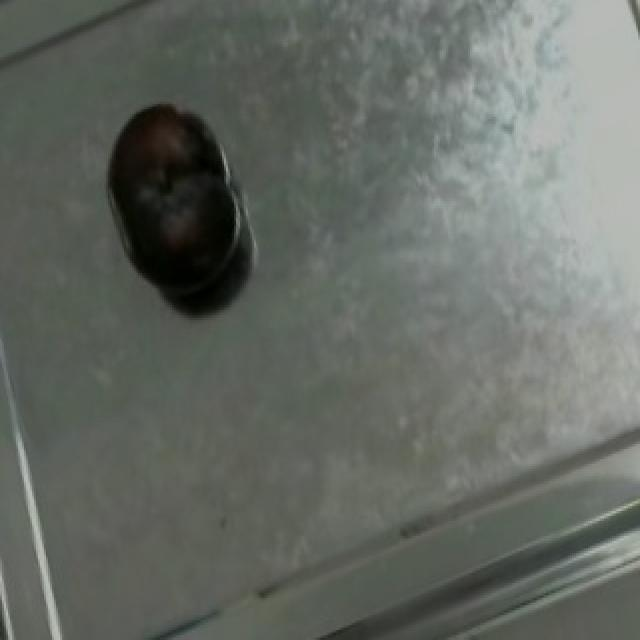Fruit: (126, 141, 252, 310)
